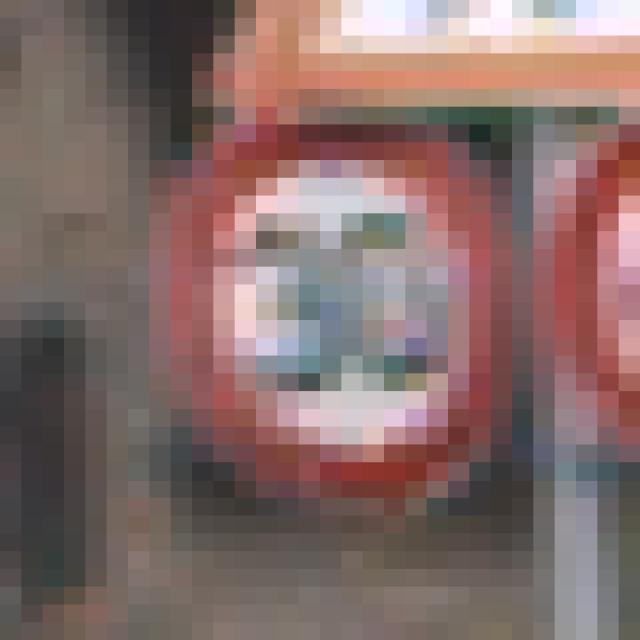Speed Limit -30-: (96, 80, 523, 524)
